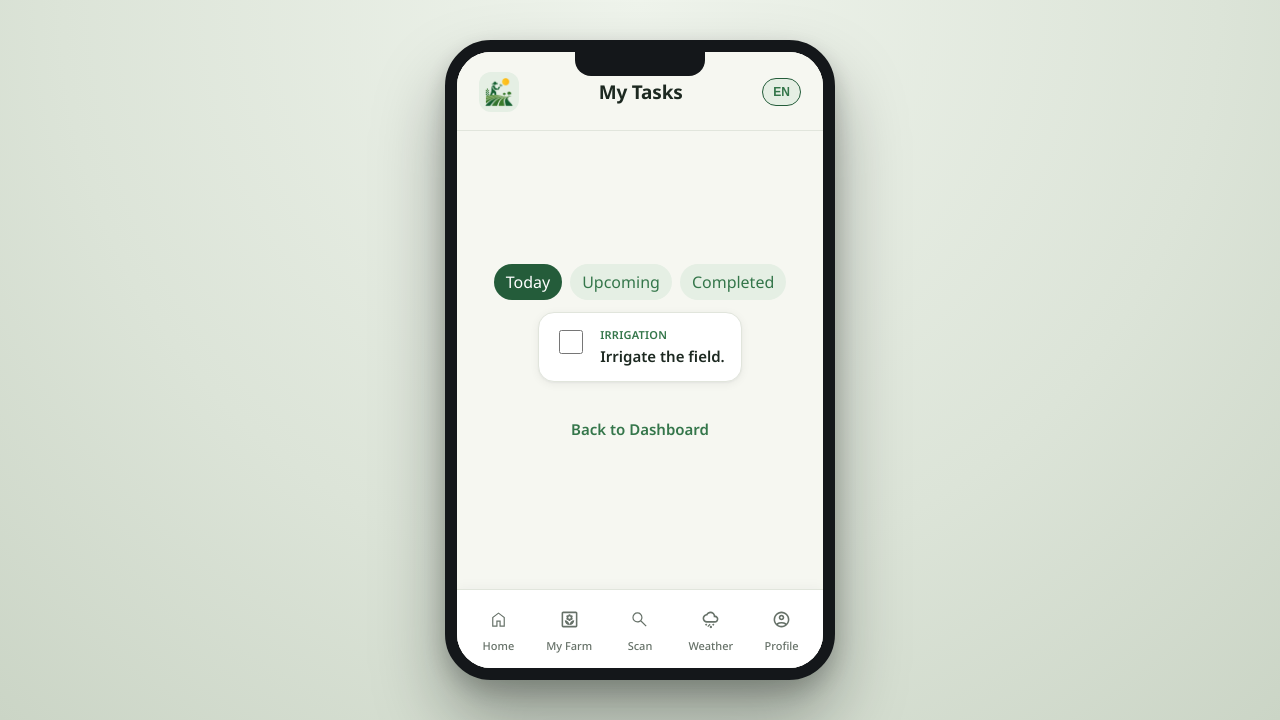
TasksPage › keeps the task list visible and shows a toggle-specific error when toggling fails, without the load-error view
Expected: the text "Irrigate the field." is shown, [600,346,725,366]
Click the checkbox labelled "Irrigation Irrigate the field." at (571, 342), box [559,330,583,354]
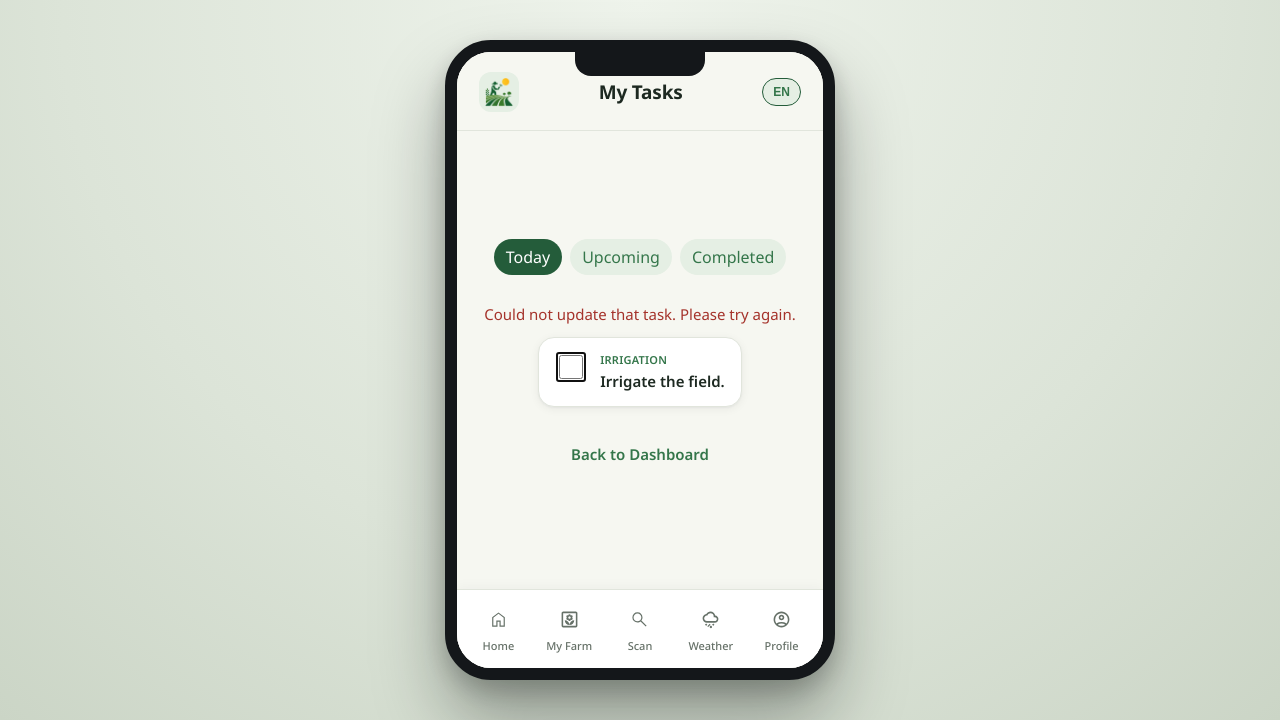
Expected: the text "Irrigate the field." is shown, [600,371,725,392]
Now the text "Could not update that task. Please try again." is shown, box [484,303,796,325]
